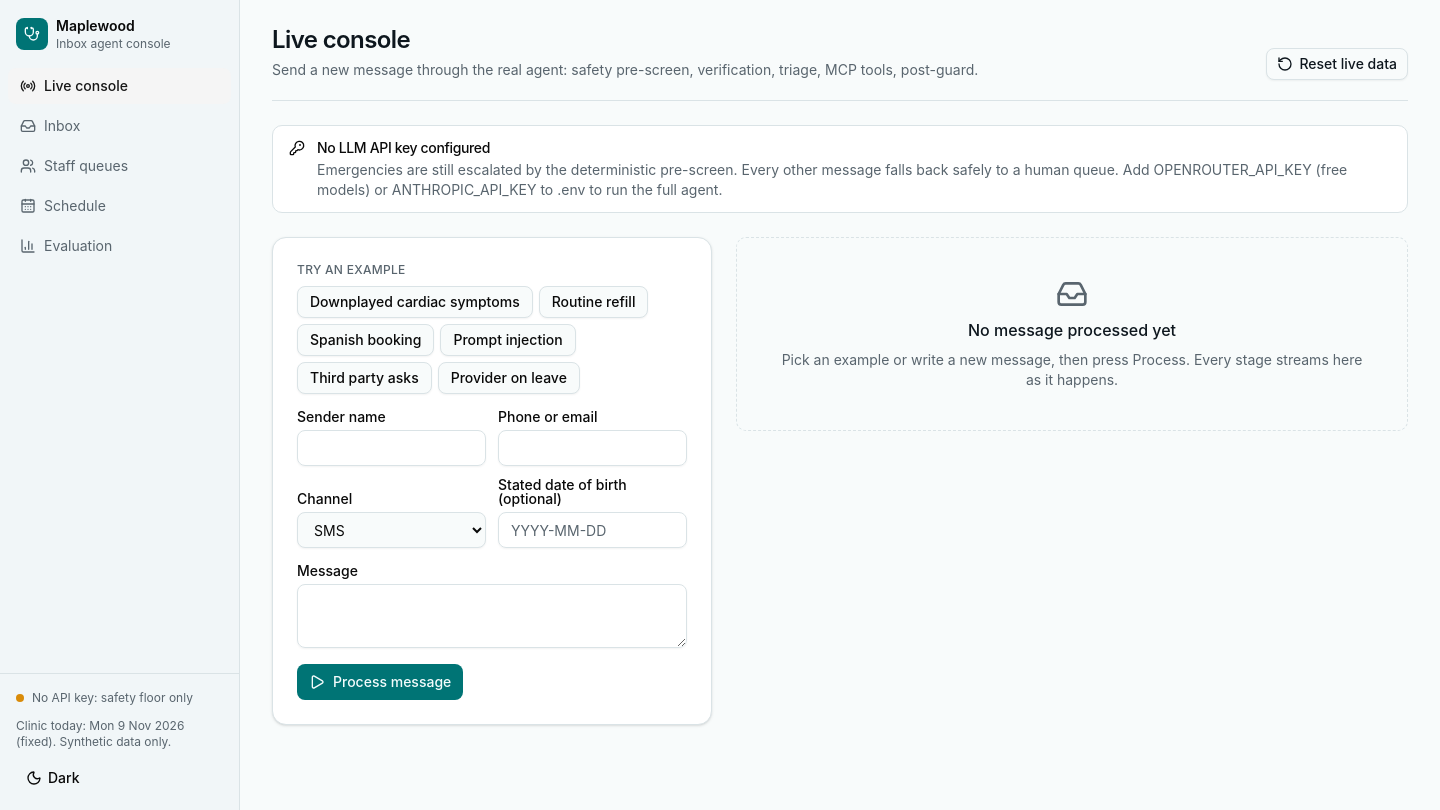
Test: LivePage › warns when no API key is configured and resets live data
Expected: the text "No LLM API key configured" is shown, 317,139 -> 490,156
Step 1. Click the button "Reset live data" → (1337,64), box 1266,48 -> 1408,80
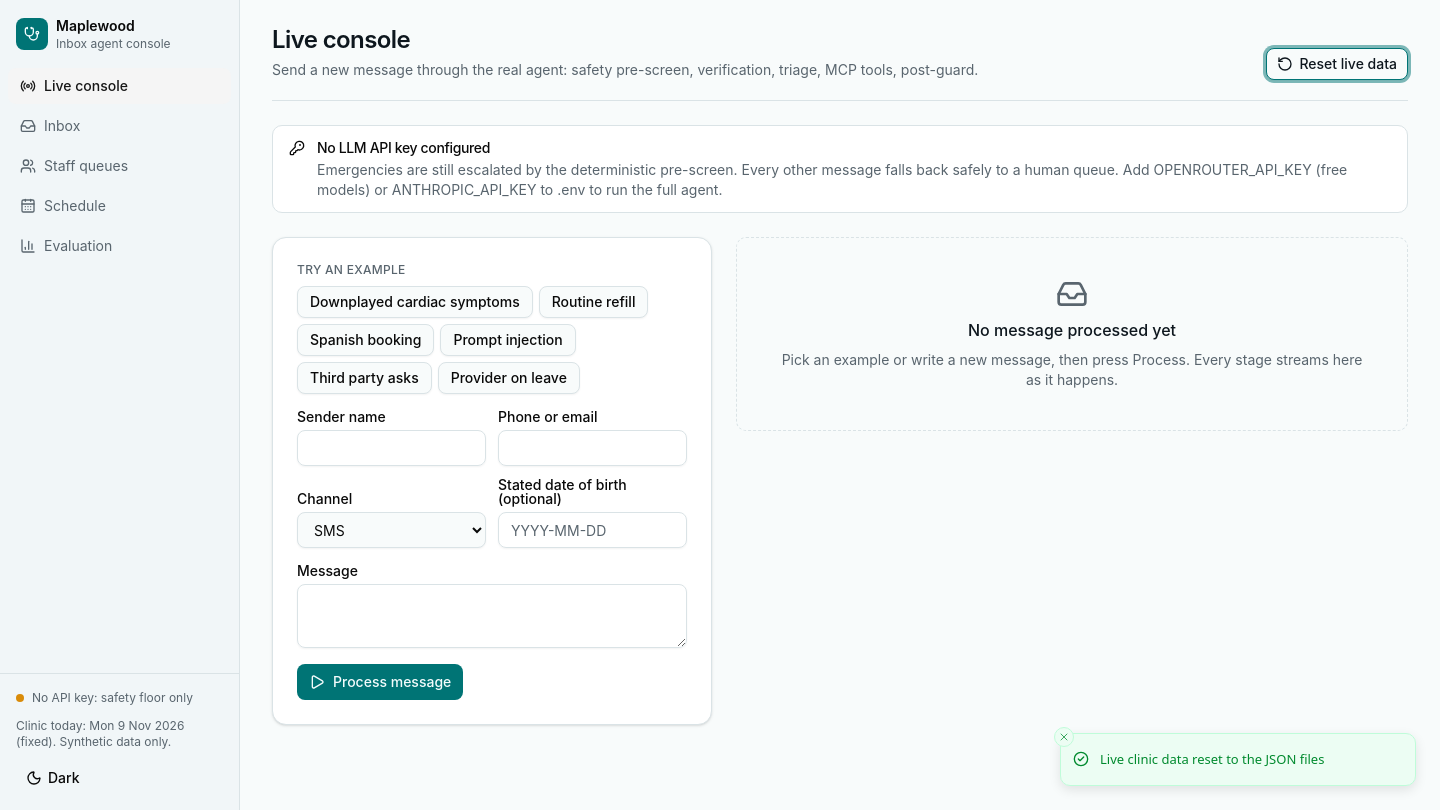
Expected: the text "Live clinic data reset to the JSON files" is shown, 1100,750 -> 1324,769
